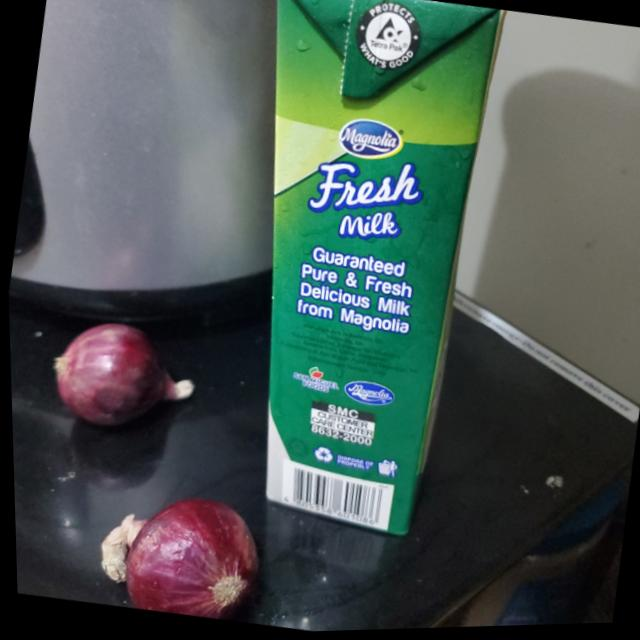milk: (202, 0, 518, 545)
onion: (89, 488, 264, 628), (41, 309, 210, 436)
